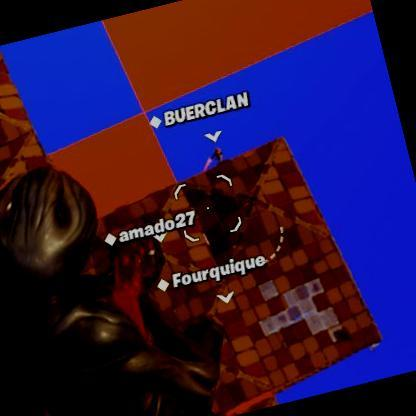person: (210, 146, 226, 162)
